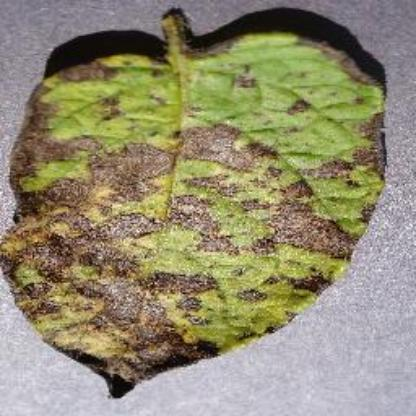Early-Blight: (9, 18, 390, 398)
